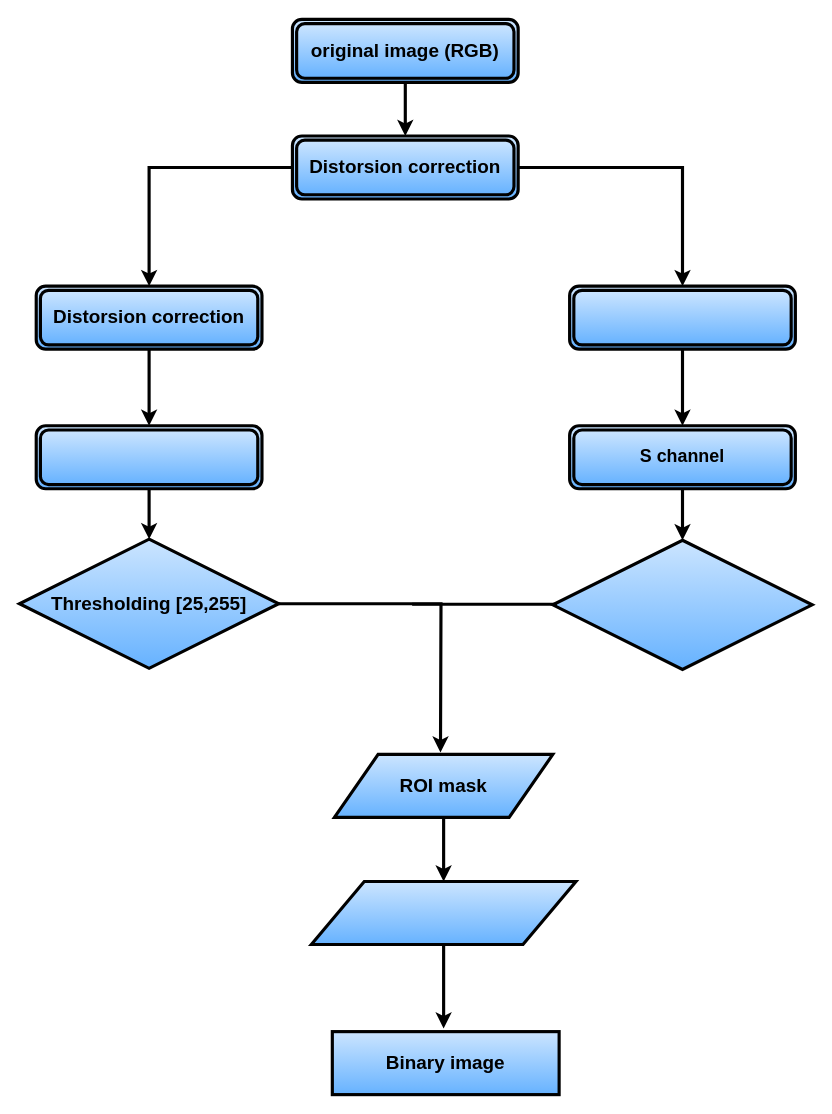
The diagram is 832 pixels wide and 1114 high, and some of its shapes have lost their labels. Here are the shapes that lost their labels. From the top down, the box of each, then its label:
(568, 284, 796, 350): HLS image
(34, 424, 263, 490): Gradient x
(551, 538, 813, 670): Thresholding [50,255]
(309, 879, 577, 946): small elements filter
